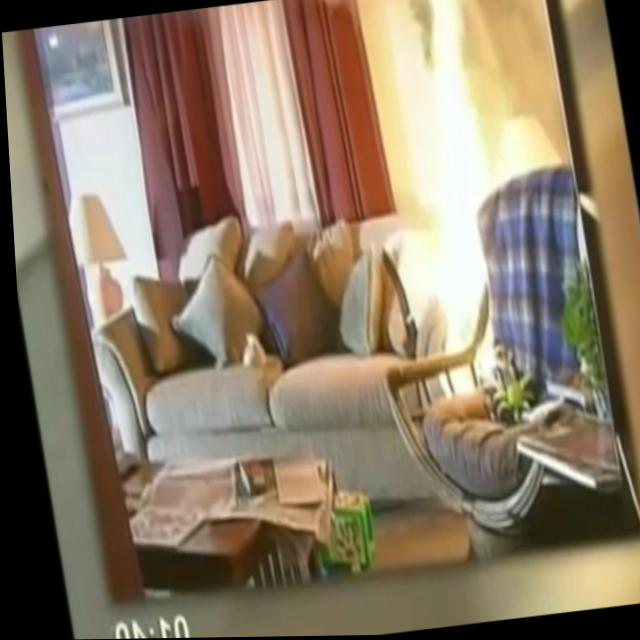fire: (375, 0, 523, 408)
